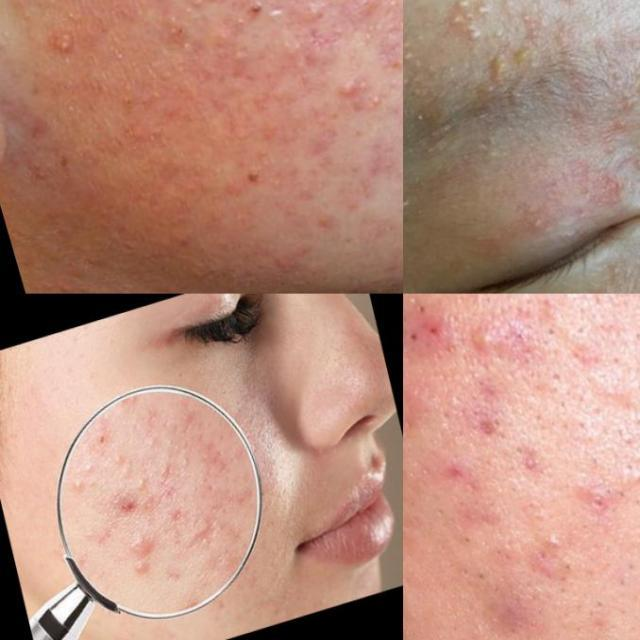Pimples: (455, 310, 510, 362), (542, 550, 594, 595), (184, 522, 222, 564), (153, 460, 180, 500), (125, 552, 156, 586), (109, 494, 138, 521)
